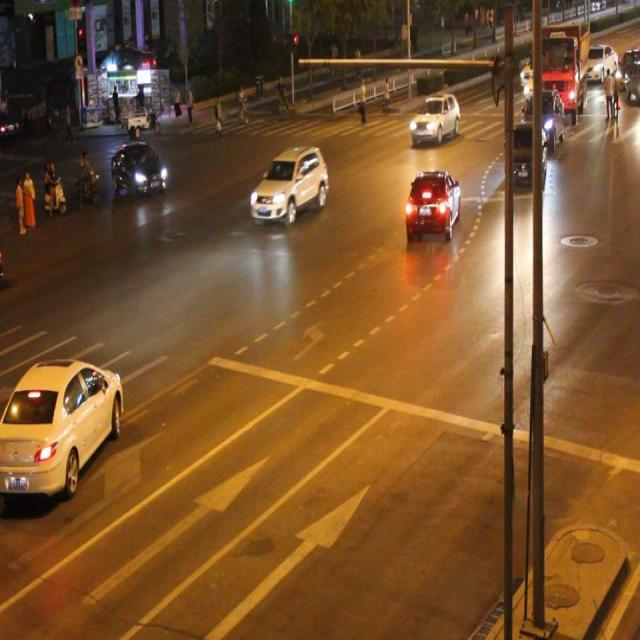car: (0, 358, 124, 492), (250, 145, 328, 222), (404, 165, 461, 239), (111, 140, 167, 198), (503, 120, 547, 188), (408, 94, 459, 144)
